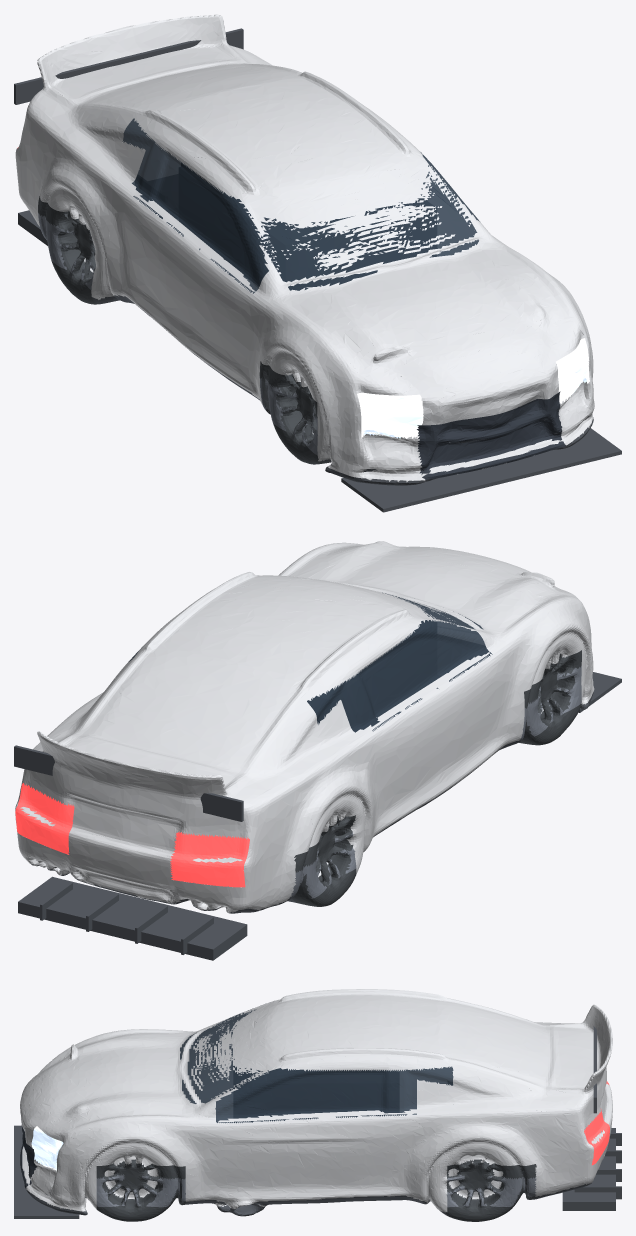
File: nascar-nextgen.glb
3 renders of one model, top to bottom at view 1: azimuth 30°, elevation 25°; view 2: azimuth 150°, elevation 25°; view 3: azimuth 270°, elevation 25°, orthographic. The views are drawn at different scales.
Parts seen in each view (by area): view 1: body_paint, cockpit_glass, lights_front; view 2: body_paint, cockpit_glass, lights_rear; view 3: body_paint, cockpit_glass, lights_front, lights_rear.
Part boxes in pixels (x1,y1,x2,y2): body_paint: [14, 14, 621, 512]; cockpit_glass: [122, 118, 479, 293]; lights_front: [357, 338, 589, 438]; body_paint: [14, 541, 621, 960]; cockpit_glass: [128, 592, 492, 732]; lights_rear: [15, 783, 249, 887]; body_paint: [14, 989, 621, 1221]; cockpit_glass: [180, 1003, 453, 1123]; lights_front: [31, 1072, 63, 1171]; lights_rear: [584, 1081, 609, 1165].
Bounding box in the file's own units: 2.01 × 1.44 × 5.02.
4 materials, 4 textured.
